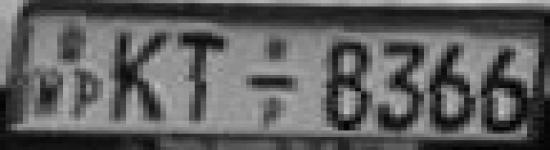-: (243, 71, 305, 95)
3: (374, 38, 429, 132)
6: (425, 38, 480, 134), (479, 42, 531, 137)
8: (318, 35, 376, 133)
K: (109, 28, 174, 124)
P: (70, 67, 107, 122)
T: (175, 28, 231, 125)
W: (35, 67, 69, 117)
